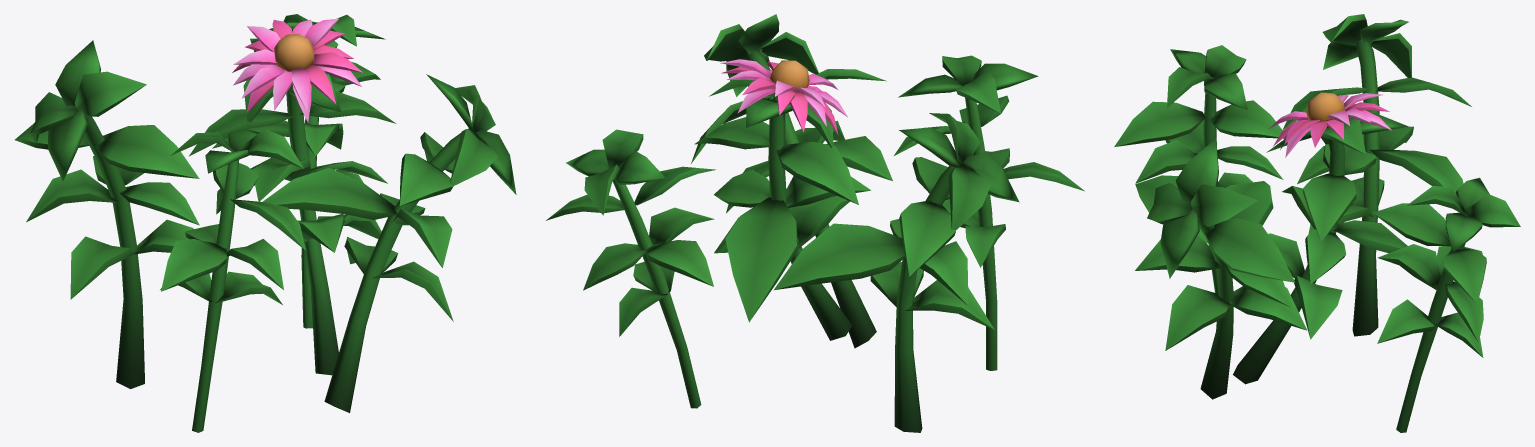
File: SM_Plant_Echinacea_Lv2.fbx
3 renders of one model, left to right at view 1: azimuth 30°, elevation 25°; view 2: azimuth 150°, elevation 25°; view 3: azimuth 270°, elevation 25°, orthographic. The views are drawn at different scales.
Parts seen in each view (by area): view 1: SM_Plant_Echinacea_Lv2; view 2: SM_Plant_Echinacea_Lv2; view 3: SM_Plant_Echinacea_Lv2.
Part boxes in pixels (x1,y1,x2,y2): SM_Plant_Echinacea_Lv2: (15,14,516,432); SM_Plant_Echinacea_Lv2: (546,14,1084,432); SM_Plant_Echinacea_Lv2: (1114,14,1520,432).
Bounding box in the file's own units: 42.25 × 33.96 × 39.94.
